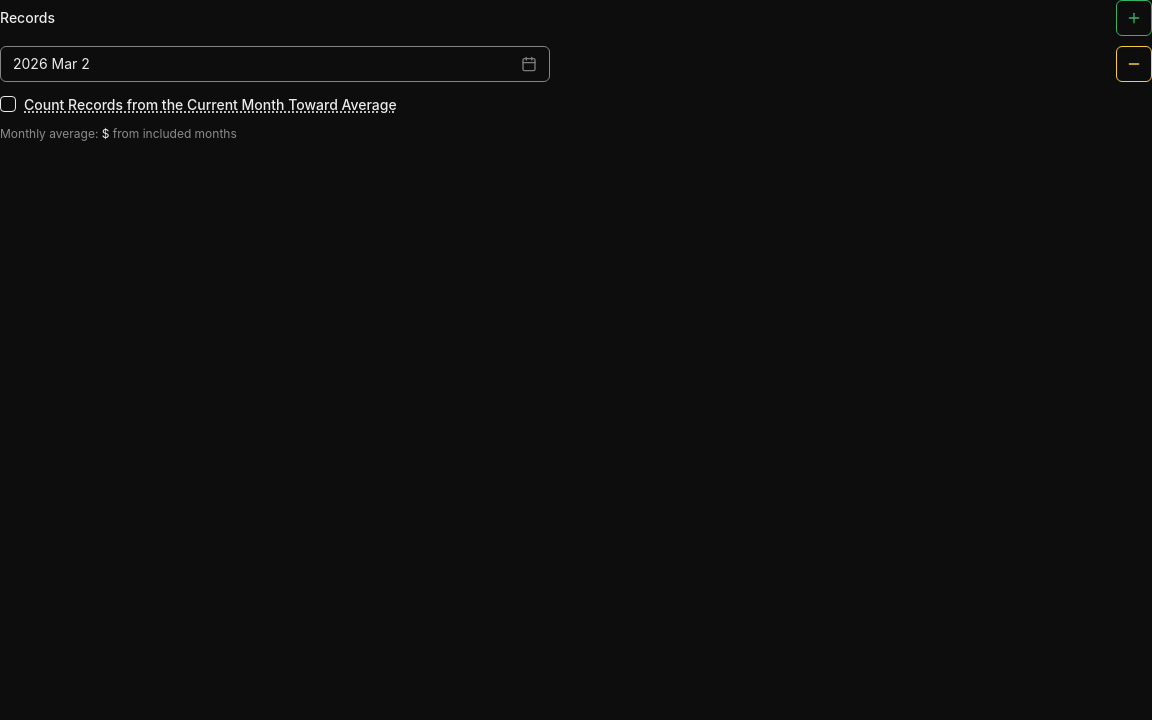
AverageRecordsEditor › opens a calendar datepicker and updates a monthly record with a specific date
Later steps or results of the test are not shown.
Click the button "2026 Mar 2".
click(51, 64)  # box 0,46 -> 550,82
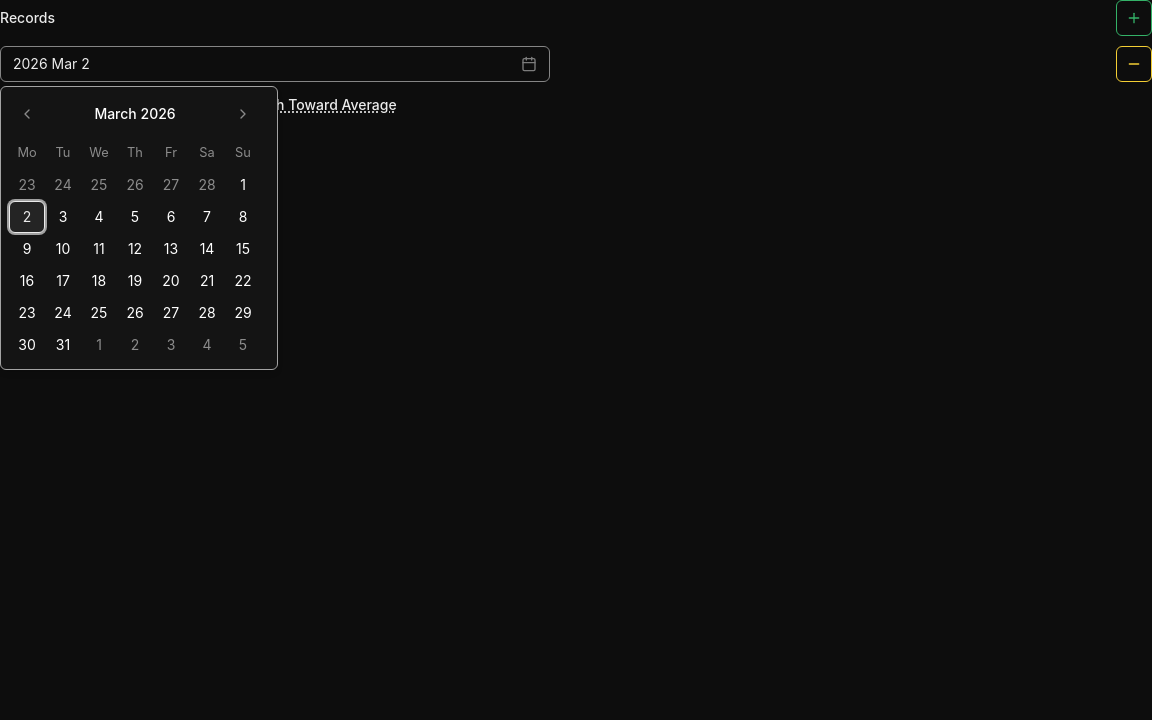
Result: the cell "18" is shown at 81,265 -> 117,297
